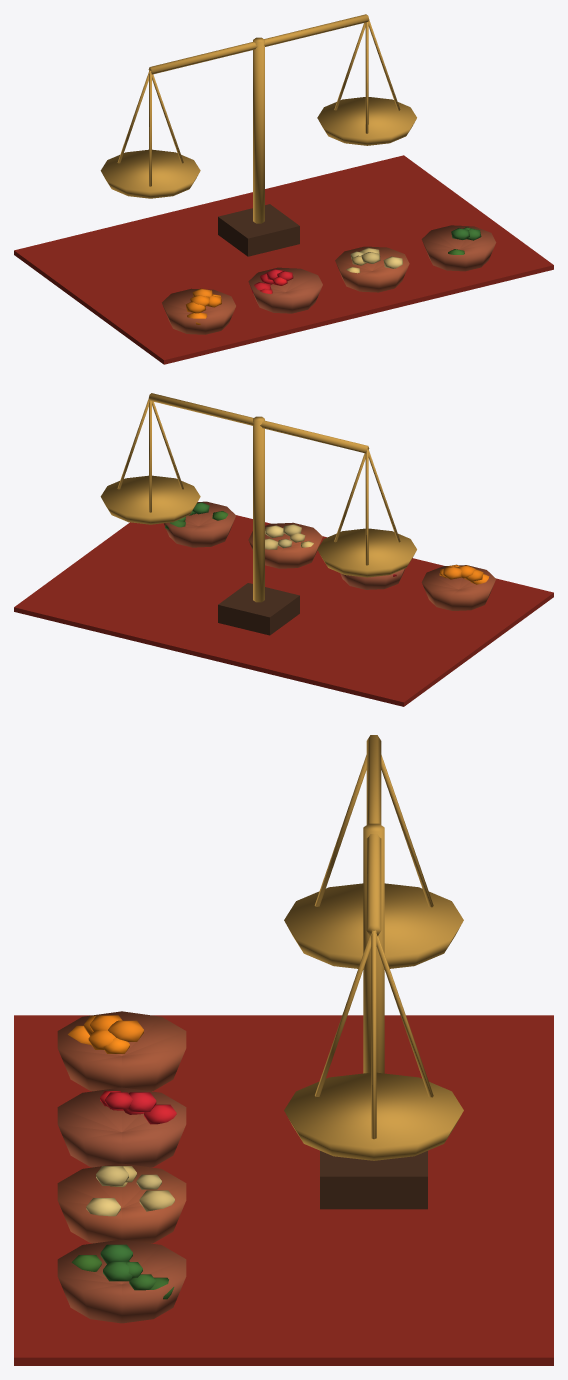
The model's file is PRP_Balance_Scale_A.glb.
The picture shows the model from 3 angles, top to bottom: view 1: azimuth 30°, elevation 25°; view 2: azimuth 150°, elevation 25°; view 3: azimuth 270°, elevation 25°; orthographic projection. The views are drawn at different scales.
Parts seen in each view (by area): view 1: PRP_Balance_Scale_A_Mesh; view 2: PRP_Balance_Scale_A_Mesh; view 3: PRP_Balance_Scale_A_Mesh.
Part boxes in pixels (x1,y1,x2,y2): PRP_Balance_Scale_A_Mesh: (14, 14, 553, 364); PRP_Balance_Scale_A_Mesh: (14, 393, 553, 706); PRP_Balance_Scale_A_Mesh: (14, 735, 553, 1365).
Size of the model in its own units: 0.9 by 0.45 by 0.6.
